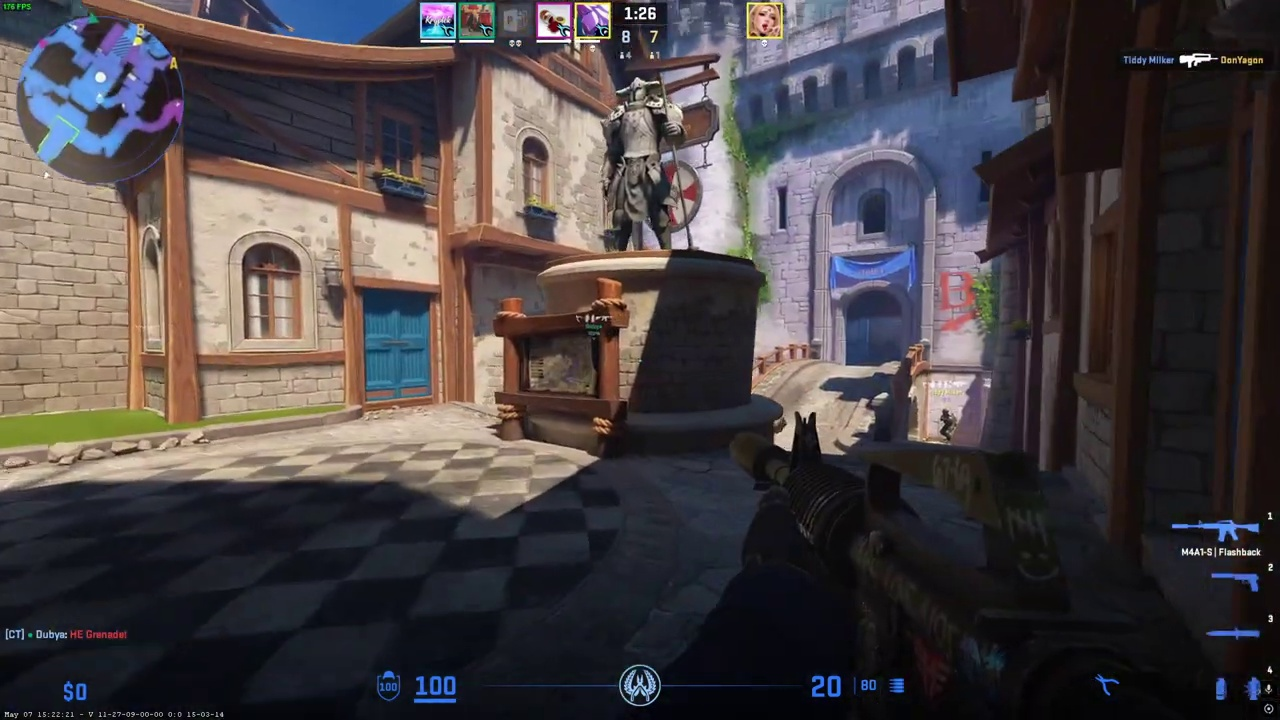CT: (940, 409, 954, 440)
